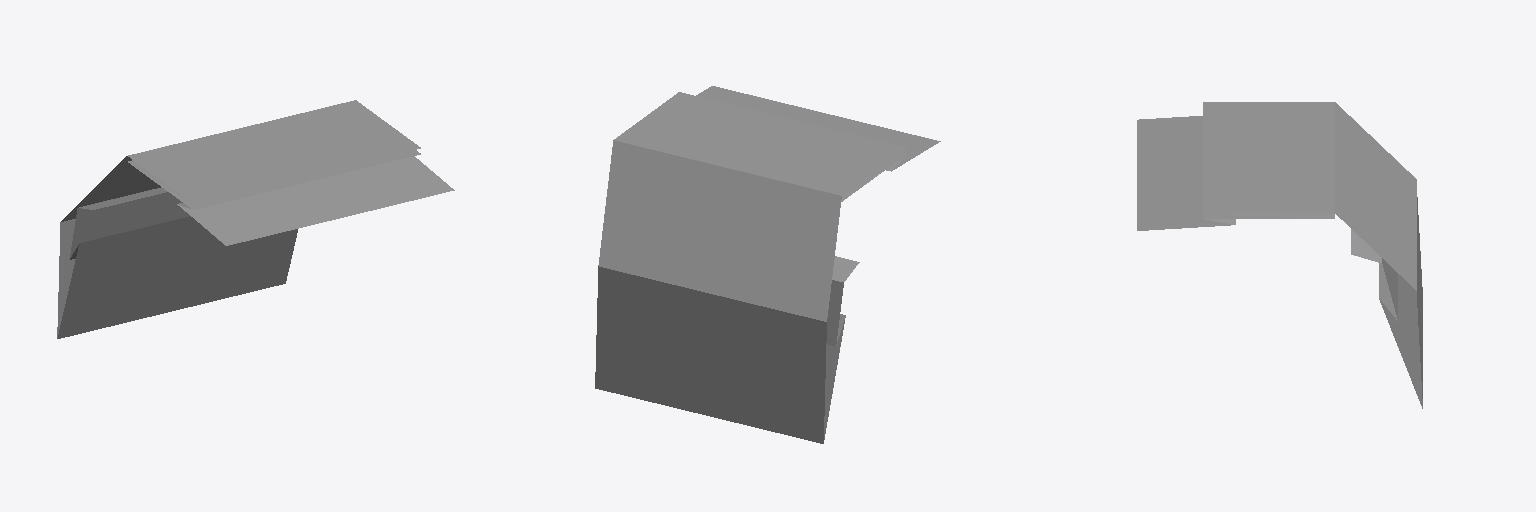
Rendered from map.obj.
The picture shows the model from 3 angles: view 1: azimuth 30°, elevation 25°; view 2: azimuth 150°, elevation 25°; view 3: azimuth 270°, elevation 25°; orthographic projection.
Parts seen in each view (by area): view 1: SketchUp.001_ID20, SketchUp.002_ID28, SketchUp_ID2, SketchUp.003_ID36; view 2: SketchUp.001_ID20, SketchUp_ID2, SketchUp.002_ID28, SketchUp.003_ID36; view 3: SketchUp.001_ID20, SketchUp_ID2, SketchUp.002_ID28, SketchUp.003_ID36.
Part boxes in pixels (x1,y1,x2,y2): SketchUp.001_ID20: (57,156,297,338); SketchUp.002_ID28: (128,150,454,245); SketchUp_ID2: (128,100,420,203); SketchUp.003_ID36: (249,119,357,170); SketchUp.001_ID20: (595,140,859,443); SketchUp_ID2: (614,92,906,195); SketchUp.002_ID28: (696,86,940,201); SketchUp.003_ID36: (678,111,786,162); SketchUp.001_ID20: (1335,102,1422,408); SketchUp_ID2: (1203,102,1334,212); SketchUp.002_ID28: (1137,116,1334,230); SketchUp.003_ID36: (1216,157,1321,184).
Size of the model in its own units: 0.2227 by 0.1753 by 0.2168.